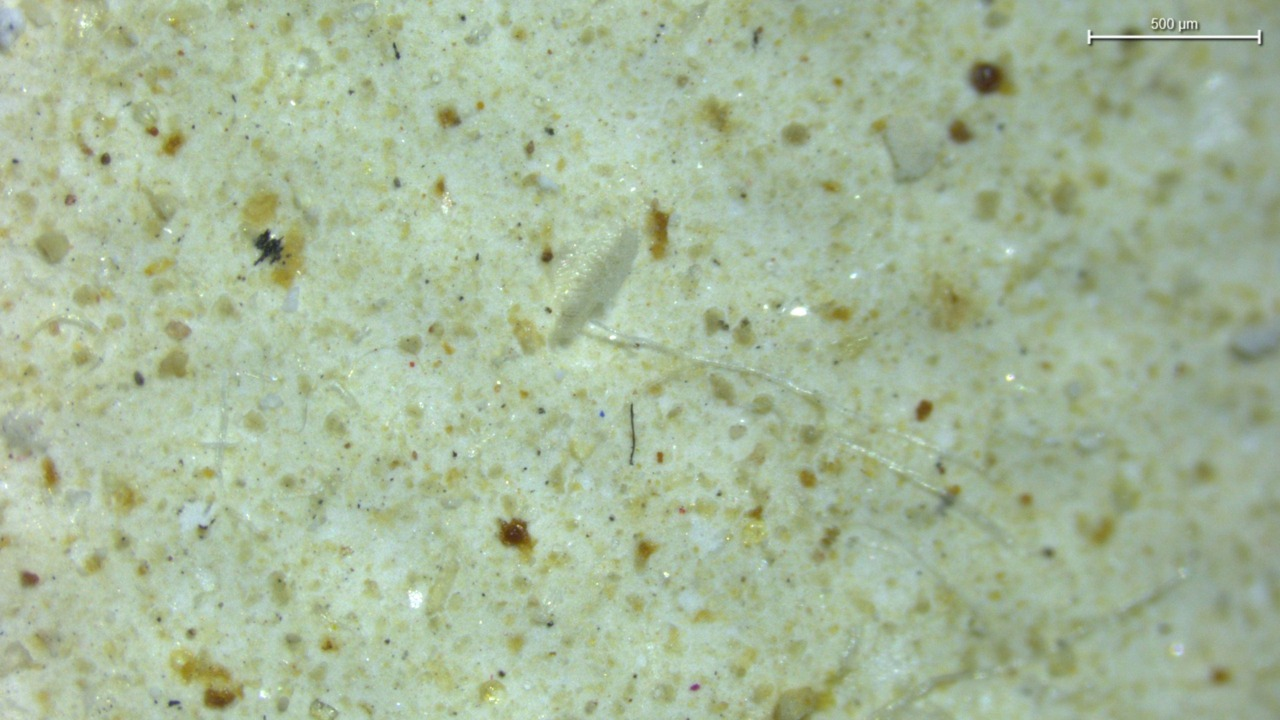microplastic_fragment: (547, 228, 641, 347), (883, 117, 944, 181)
